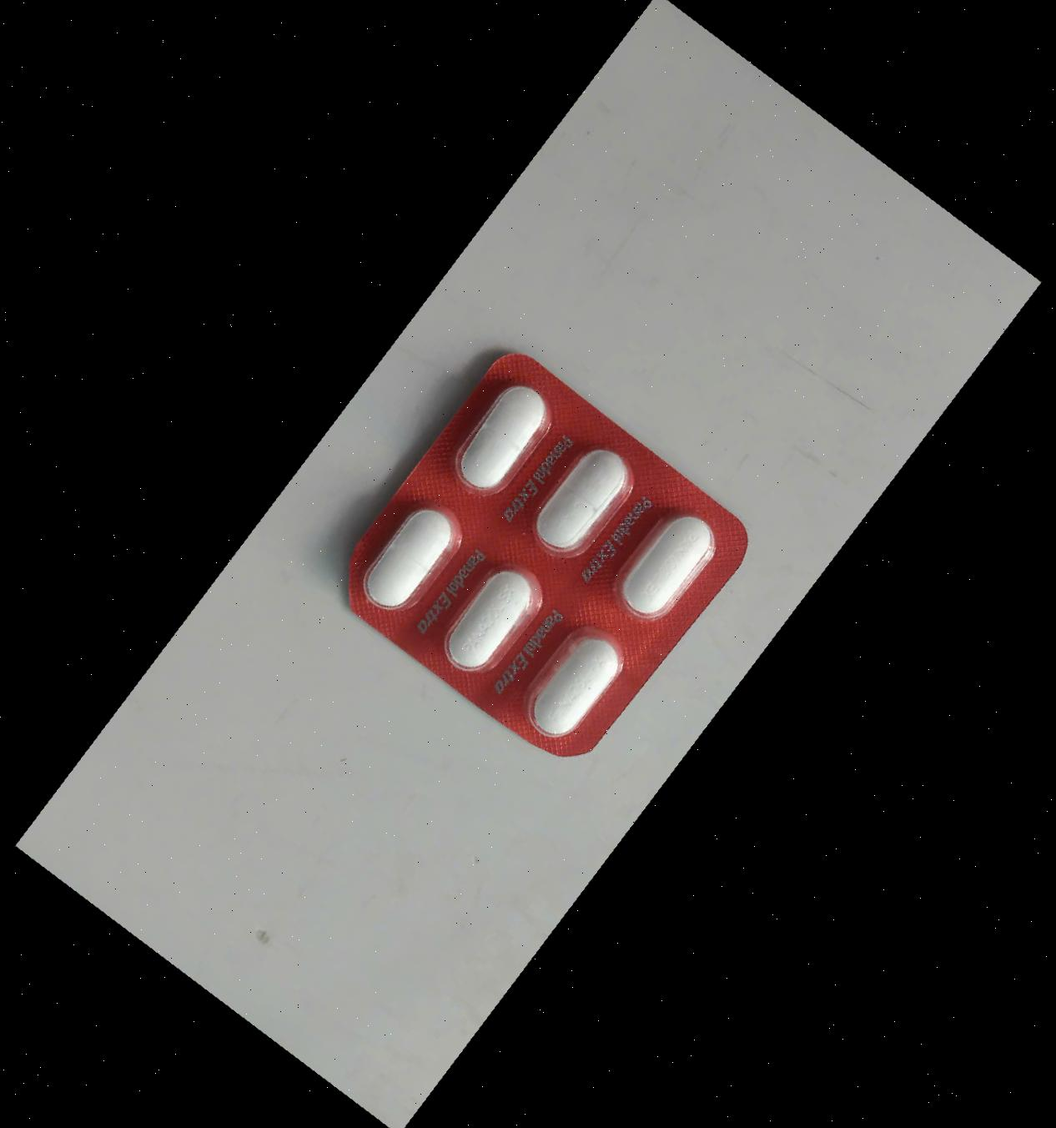Full: (437, 370, 564, 511), (605, 494, 732, 635), (512, 615, 639, 756), (517, 434, 644, 574), (424, 551, 551, 691), (346, 491, 472, 632)
